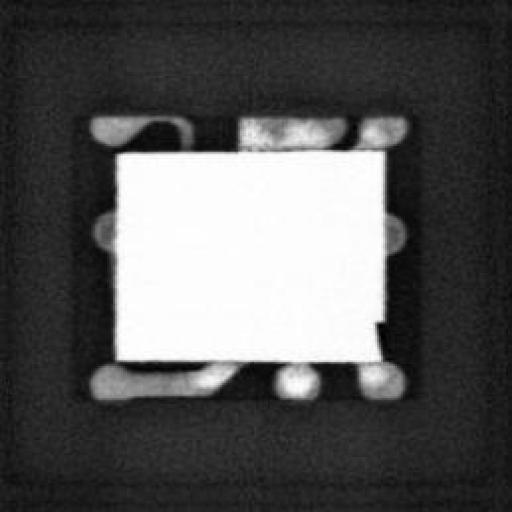DIE_BROKEN: (371, 317, 387, 362)
